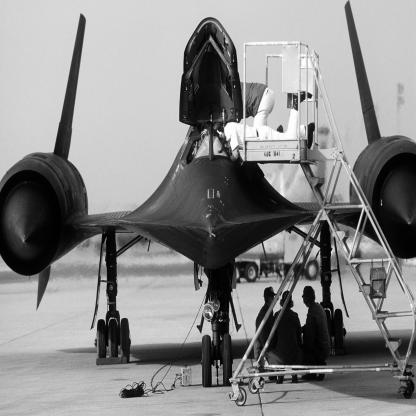SR71: (1, 1, 416, 389)
